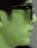without_mask: (1, 1, 37, 48)
